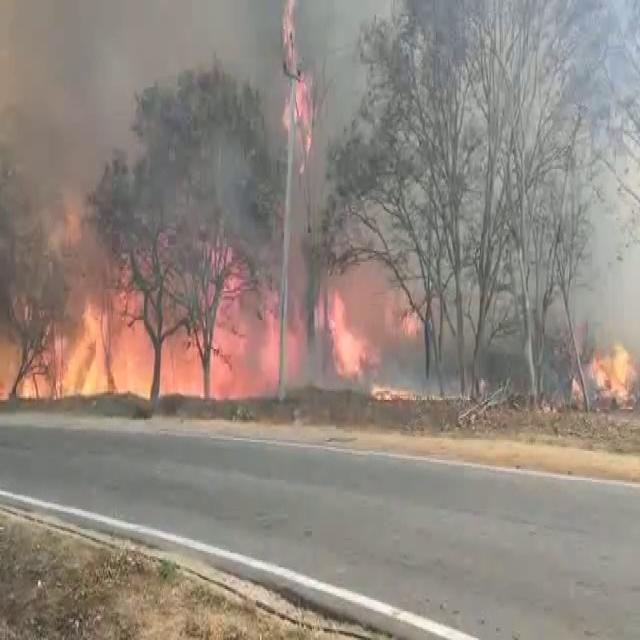Fire: (29, 262, 252, 400), (240, 278, 422, 402), (273, 0, 321, 176), (1, 310, 48, 406), (333, 294, 366, 382), (592, 346, 636, 398), (46, 208, 92, 252), (334, 332, 364, 380)
Smoke: (338, 12, 639, 252), (6, 15, 197, 166), (438, 252, 564, 400)
